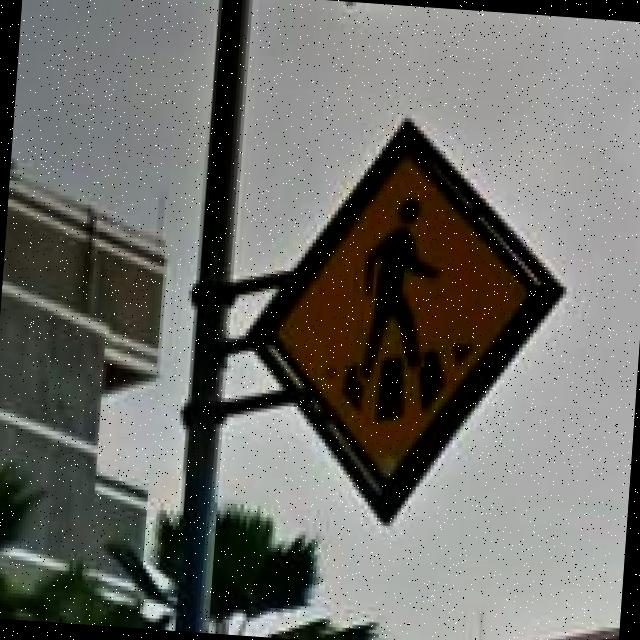Przejscie dla pieszych: (266, 140, 536, 492)
